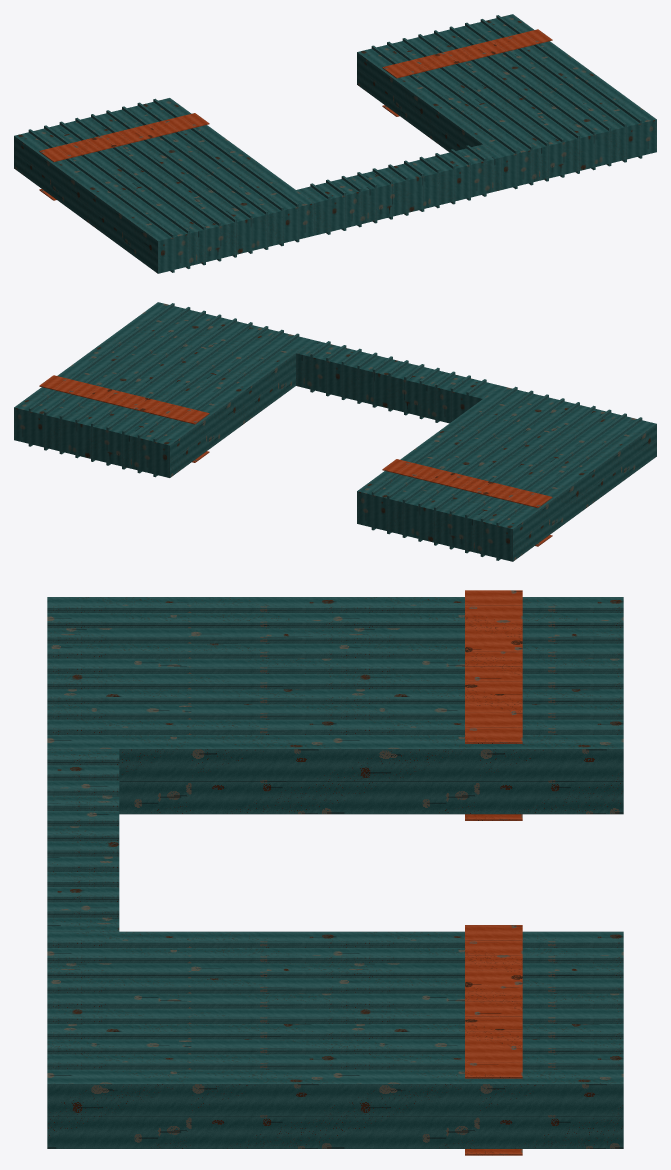
Rendered from corrugated_door-pristine.obj.
The picture shows the model from 3 angles, top to bottom: view 1: azimuth 30°, elevation 25°; view 2: azimuth 150°, elevation 25°; view 3: azimuth 270°, elevation 25°; orthographic projection. The views are drawn at different scales.
Parts seen in each view (by area): view 1: corrugated_door.Pristine; view 2: corrugated_door.Pristine; view 3: corrugated_door.Pristine.
Part boxes in pixels (x1=…): corrugated_door.Pristine: x1=14, y1=14, x2=656, y2=273; corrugated_door.Pristine: x1=14, y1=302, x2=656, y2=561; corrugated_door.Pristine: x1=47, y1=590, x2=623, y2=1155.
Bounding box in the file's own units: 16 × 1.21 × 8.
2 materials, 2 textured.
